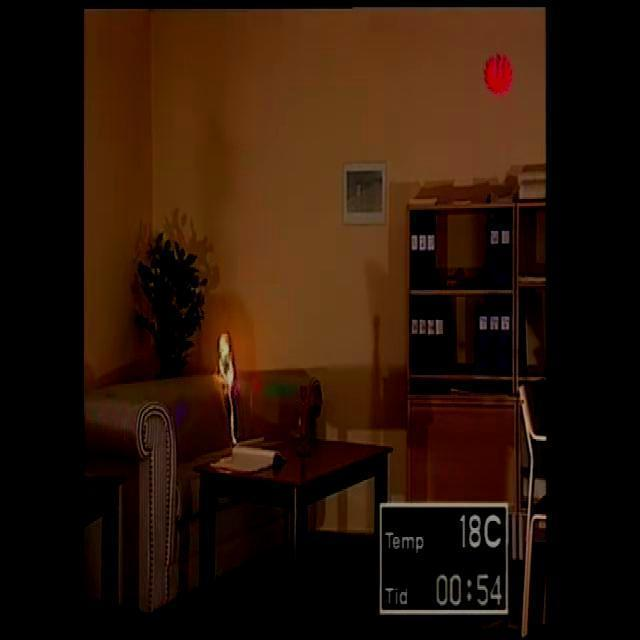smoke: (211, 322, 245, 450)
